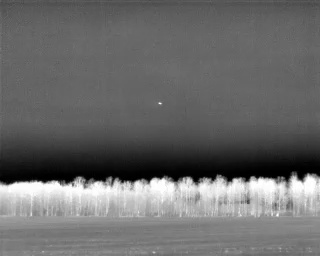DRONE: (155, 98, 165, 109)
